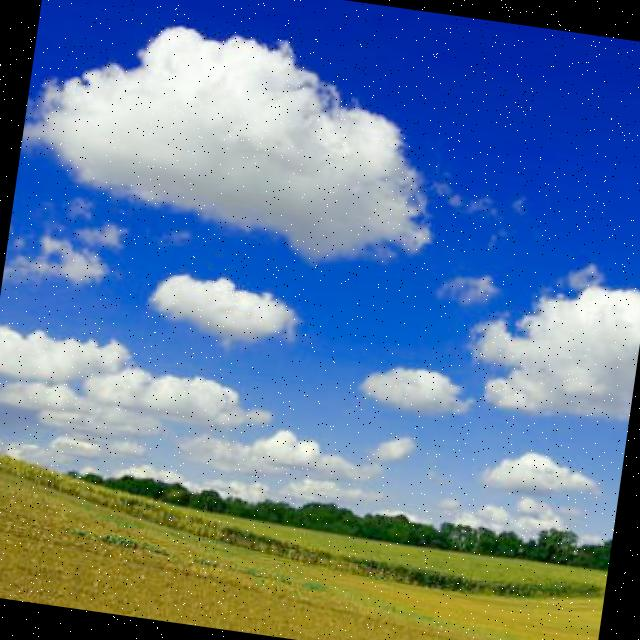Cu: (1, 12, 640, 482)
